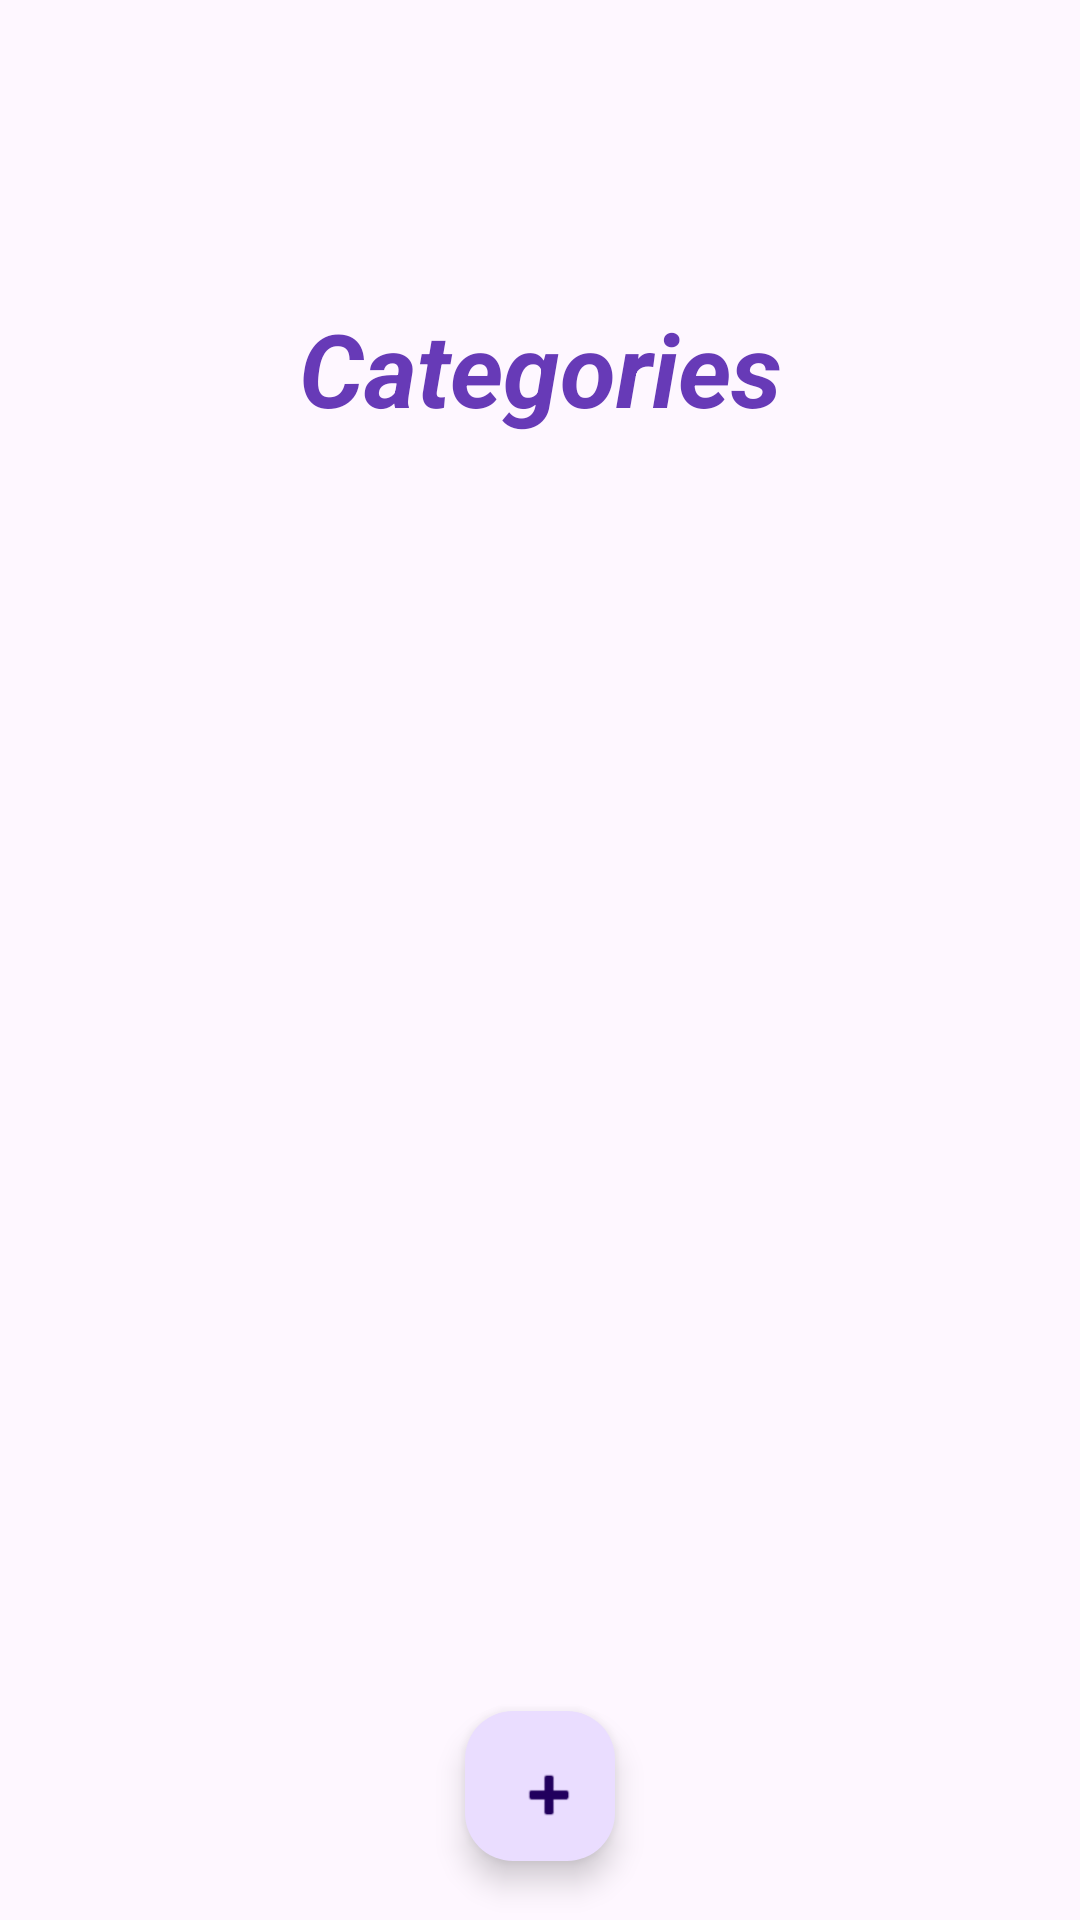

Locate icon controls on the screen. Image size 1080 x 1920, boxes as [x1, y1, x2, y2].
add: [465, 1711, 615, 1861]
